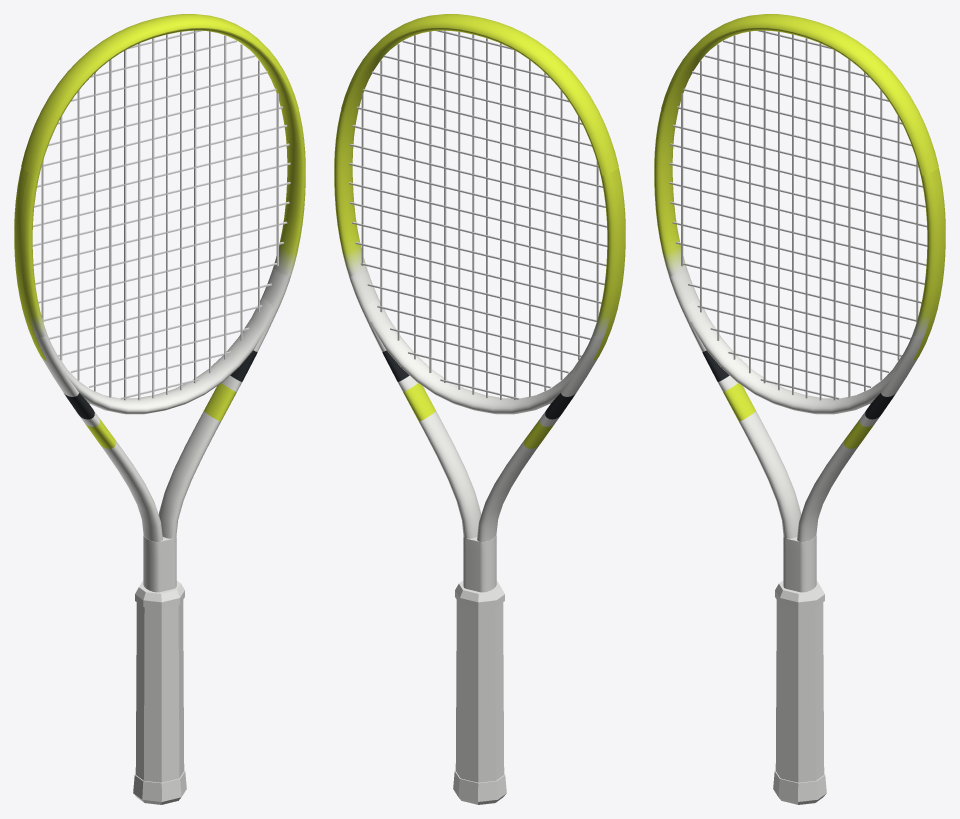
File: tecnifibre-fire-2026.glb
3 renders of one model, left to right at view 1: azimuth 30°, elevation 25°; view 2: azimuth 150°, elevation 25°; view 3: azimuth 330°, elevation 25°, orthographic.
Visible parts, largest first — view 1: frame, strings_mains, strings_crosses, grip, bumper, grommets, butt_cap, collar; view 2: frame, strings_mains, strings_crosses, grip, bumper, grommets, butt_cap, collar; view 3: frame, strings_mains, strings_crosses, grip, bumper, grommets, butt_cap, collar.
Part boxes in pixels (<box>): frame: <box>14,28,305,592</box>; strings_mains: <box>41,30,278,400</box>; strings_crosses: <box>32,30,290,399</box>; grip: <box>135,600,184,782</box>; bumper: <box>21,14,298,175</box>; grommets: <box>14,168,46,360</box>; butt_cap: <box>133,770,186,804</box>; collar: <box>135,580,184,608</box>; frame: <box>334,28,625,592</box>; strings_mains: <box>361,30,598,400</box>; strings_crosses: <box>349,30,607,399</box>; grip: <box>455,600,504,782</box>; bumper: <box>341,14,618,175</box>; grommets: <box>593,168,625,360</box>; butt_cap: <box>453,770,506,804</box>; collar: <box>455,580,504,608</box>; frame: <box>654,28,945,592</box>; strings_mains: <box>681,30,918,400</box>; strings_crosses: <box>669,30,927,399</box>; grip: <box>775,600,824,782</box>; bumper: <box>661,14,938,175</box>; grommets: <box>913,168,945,360</box>; butt_cap: <box>773,770,826,804</box>; collar: <box>775,580,824,608</box>.
Bounding box in the file's own units: 0.2644 × 0.6861 × 0.0378.
